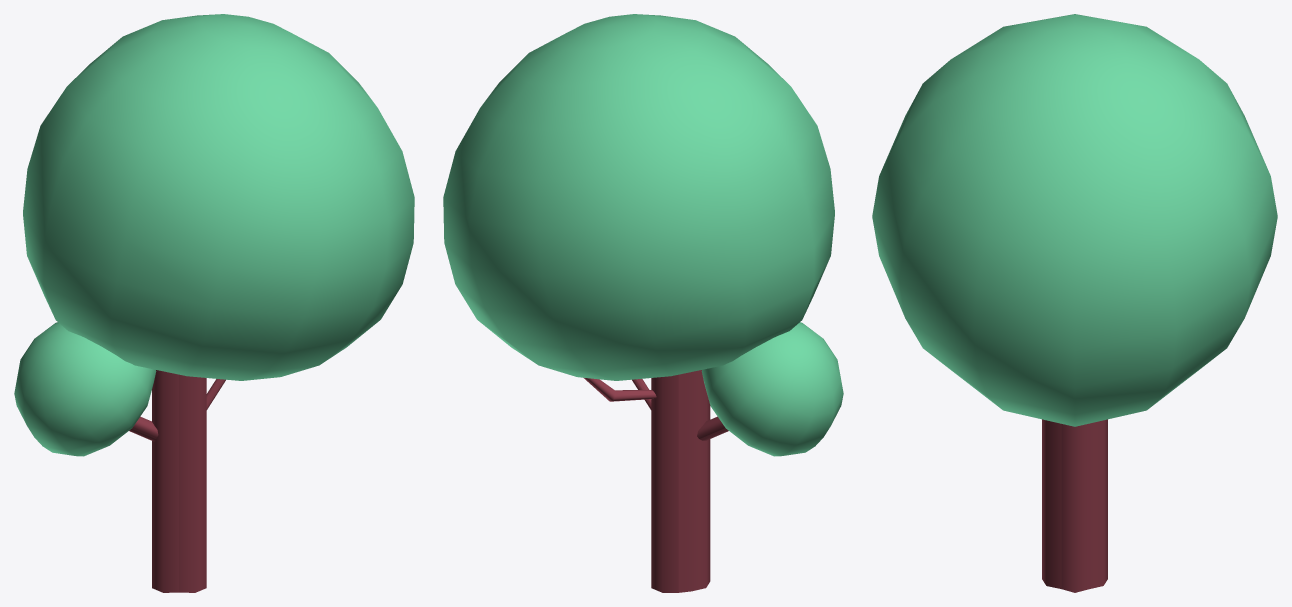
The model's file is arvore.fbx.
The picture shows the model from 3 angles, left to right: view 1: azimuth 30°, elevation 25°; view 2: azimuth 150°, elevation 25°; view 3: azimuth 270°, elevation 25°; orthographic projection. The views are drawn at different scales.
Parts seen in each view (by area): view 1: Arvore; view 2: Arvore; view 3: Arvore.
Boxes of the visible parts, x1=… form: Arvore: x1=14, y1=14, x2=414, y2=592; Arvore: x1=443, y1=14, x2=843, y2=592; Arvore: x1=872, y1=14, x2=1277, y2=592.
Size of the model in its own units: 117 by 165 by 107.
